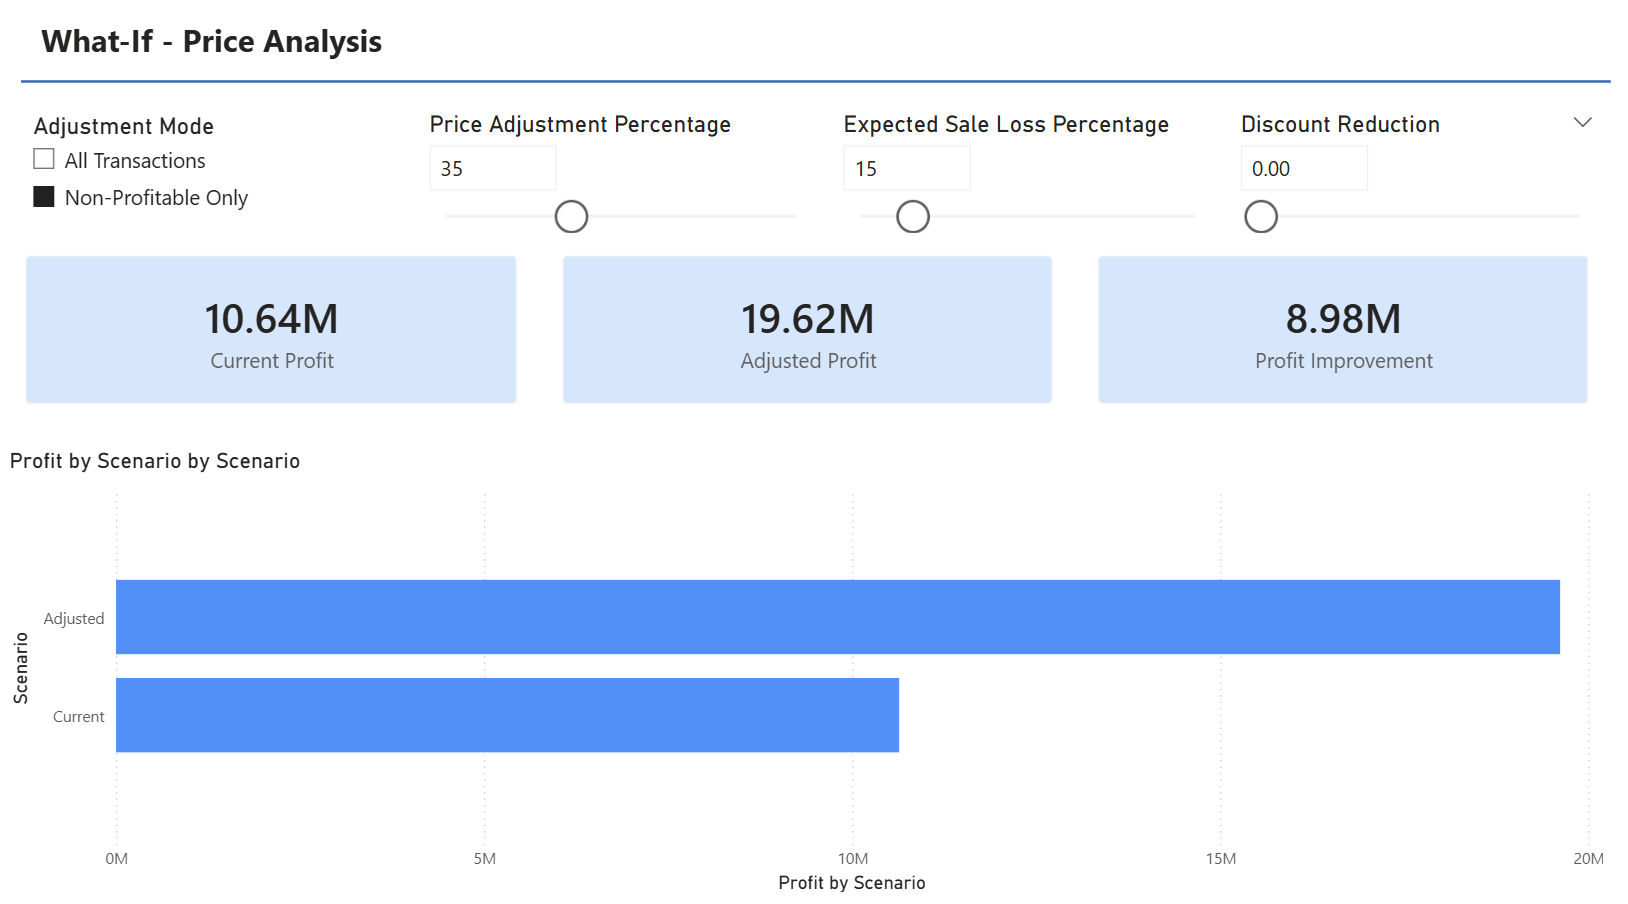

The page's visual inventory and layout, read from the dashboard file:
{"tool":"powerbi","page":{"name":"Profit Improvement - Product ","canvas":[1280,720],"ordinal":5},"visuals":[{"type":"slicer","fields":{"Values":["Price Adjustment Percentage.Price Adjustment Percentage"]},"box":[335.1,95.2,319.6,152.6],"z":0},{"type":"slicer","fields":{"Values":["Mode Selection.Adjustment Mode"]},"box":[28.8,95.7,306.2,103.1],"z":1000},{"type":"slicer","fields":{"Values":["Expected Sale Loss Percentage.Expected Sale Loss Percentage"]},"box":[654.7,95.2,307.7,152.6],"z":2000},{"type":"cardVisual","fields":{"Data":["Data Table.CALC Profit"]},"box":[19,194.8,414.3,149.6],"z":2000,"group":"g1"},{"type":"slicer","fields":{"Values":["Discount Reduction.Discount Reduction"]},"box":[961.9,94.7,297.8,152.3],"z":3000},{"type":"cardVisual","fields":{"Data":["Data Table.Adjusted Profit"]},"box":[434,194.4,413.2,149.5],"z":4000,"group":"g1"},{"type":"clusteredBarChart","fields":{"Category":["Scenario Comparisons.Scenario"],"Y":["Data Table.Profit by Scenario"]},"box":[19,360.4,1241.3,348.6],"z":4000},{"type":"group","id":"g1","title":"Group 1","box":[19,194.4,1241.3,149.4],"z":5000},{"type":"shape","box":[32.9,59,1228.1,37],"z":6000},{"type":"cardVisual","fields":{"Data":["Data Table.Profit Improvement"]},"box":[847.1,194.4,413.2,149.5],"z":6000,"group":"g1"},{"type":"textbox","box":[43,23.2,532.9,50.7],"z":7000}]}

Visuals, with their boxes in screenshot pixels (x1, y1, x2, y2), scaled from the page's 1280x720 canvas onto the 1628x904 screenshot:
slicer - Price Adjustment Percentage.Price Adjustment Percentage: Rect(426, 120, 833, 311)
slicer - Mode Selection.Adjustment Mode: Rect(37, 120, 426, 250)
slicer - Expected Sale Loss Percentage.Expected Sale Loss Percentage: Rect(833, 120, 1224, 311)
cardVisual - Data Table.CALC Profit: Rect(24, 245, 551, 432)
slicer - Discount Reduction.Discount Reduction: Rect(1223, 119, 1602, 310)
cardVisual - Data Table.Adjusted Profit: Rect(552, 244, 1078, 432)
clusteredBarChart - Scenario Comparisons.Scenario x Data Table.Profit by Scenario: Rect(24, 453, 1603, 890)
"Group 1" group: Rect(24, 244, 1603, 432)
shape: Rect(42, 74, 1604, 121)
cardVisual - Data Table.Profit Improvement: Rect(1077, 244, 1603, 432)
textbox: Rect(55, 29, 732, 93)
